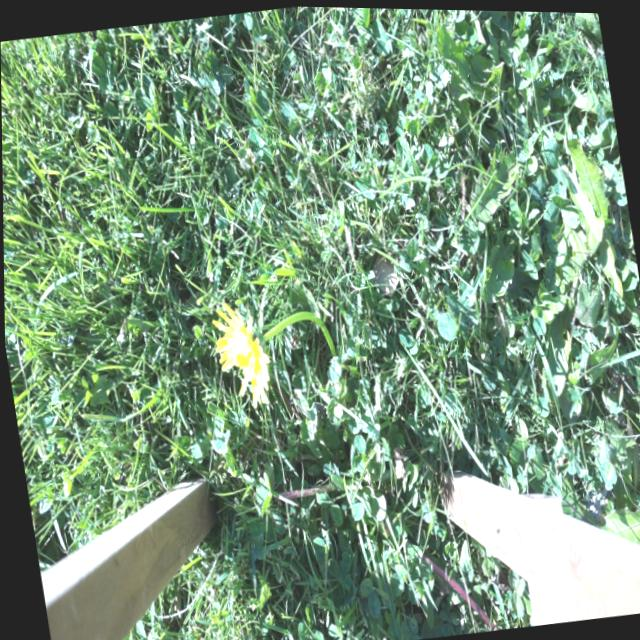base: (319, 328, 345, 368), (411, 536, 436, 574), (273, 481, 293, 512)
